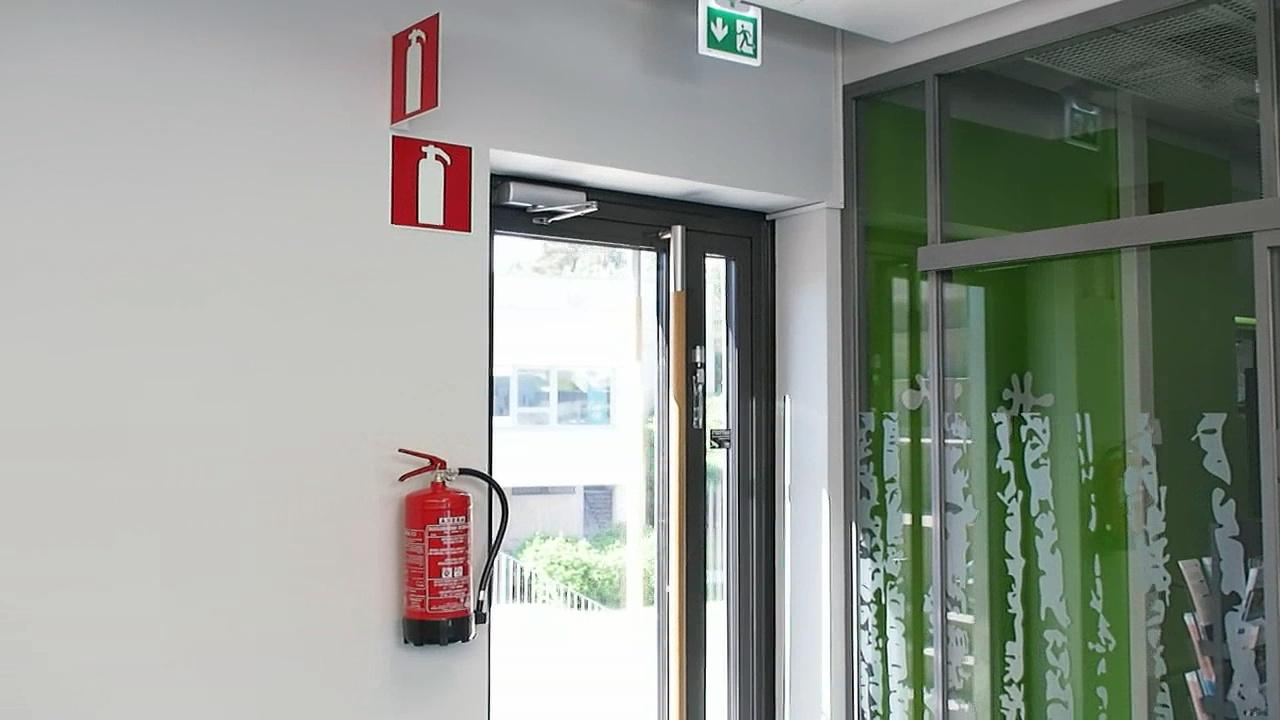exit: (703, 7, 762, 56)
fireextinguisher: (393, 445, 488, 649), (387, 129, 472, 228), (385, 13, 440, 112)
